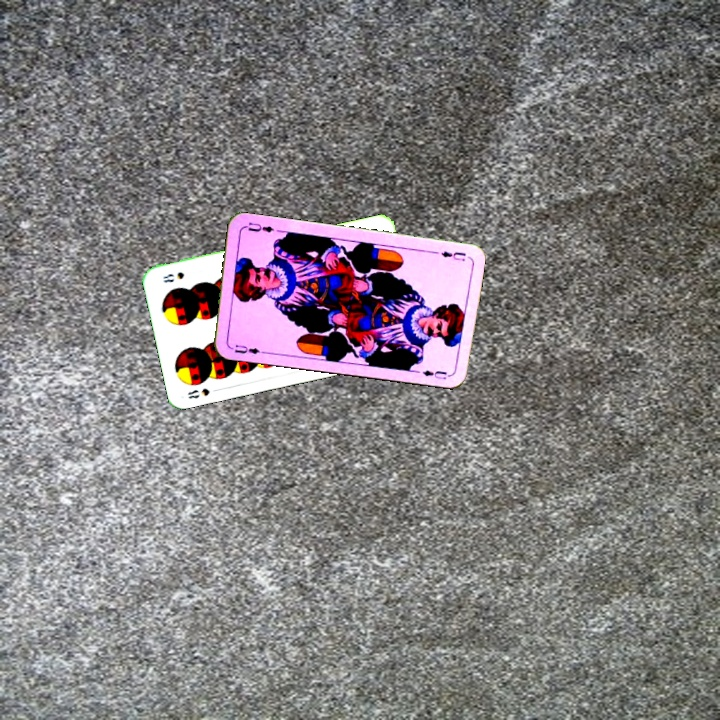EU: (226, 341, 262, 357), (437, 247, 468, 264)
S8: (184, 384, 223, 401)
